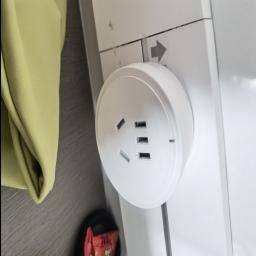outlet: (91, 47, 199, 215)
